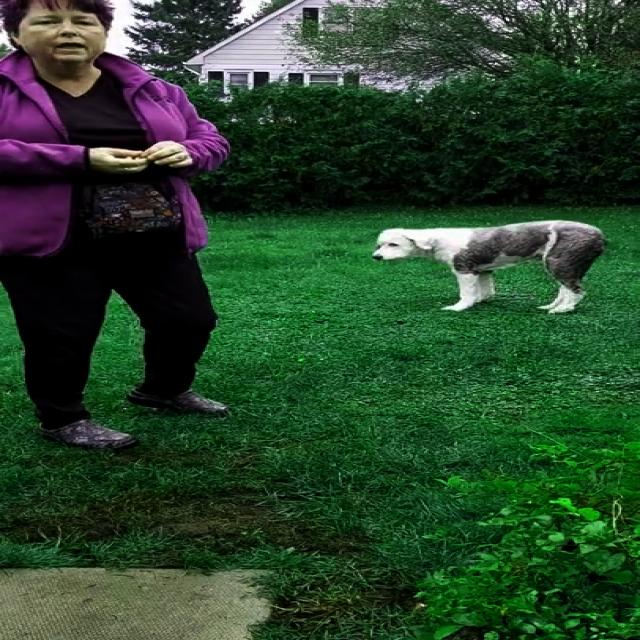Unleashed_Dog: (137, 219, 605, 413)
